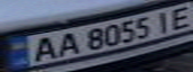0: (103, 21, 124, 47)
5: (133, 14, 157, 39), (118, 18, 139, 44)
8: (81, 25, 106, 52)
A: (24, 34, 63, 63), (51, 29, 84, 58)
E: (163, 3, 193, 30)
I: (148, 8, 178, 34)
